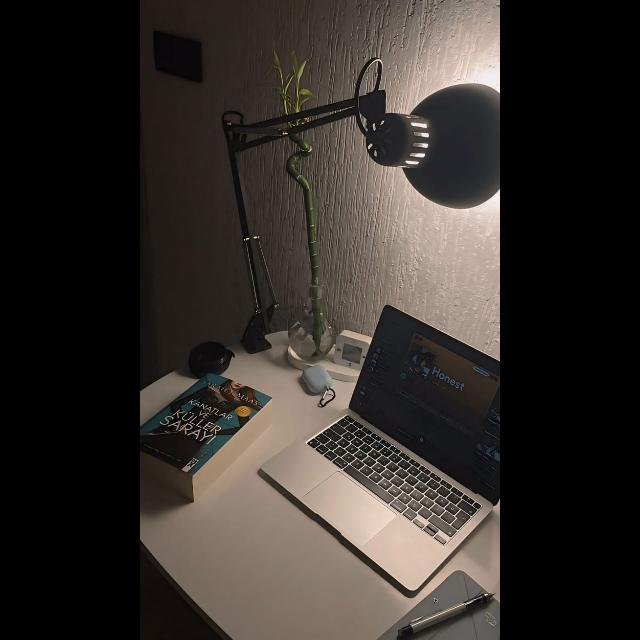laptop: (258, 310, 500, 592)
